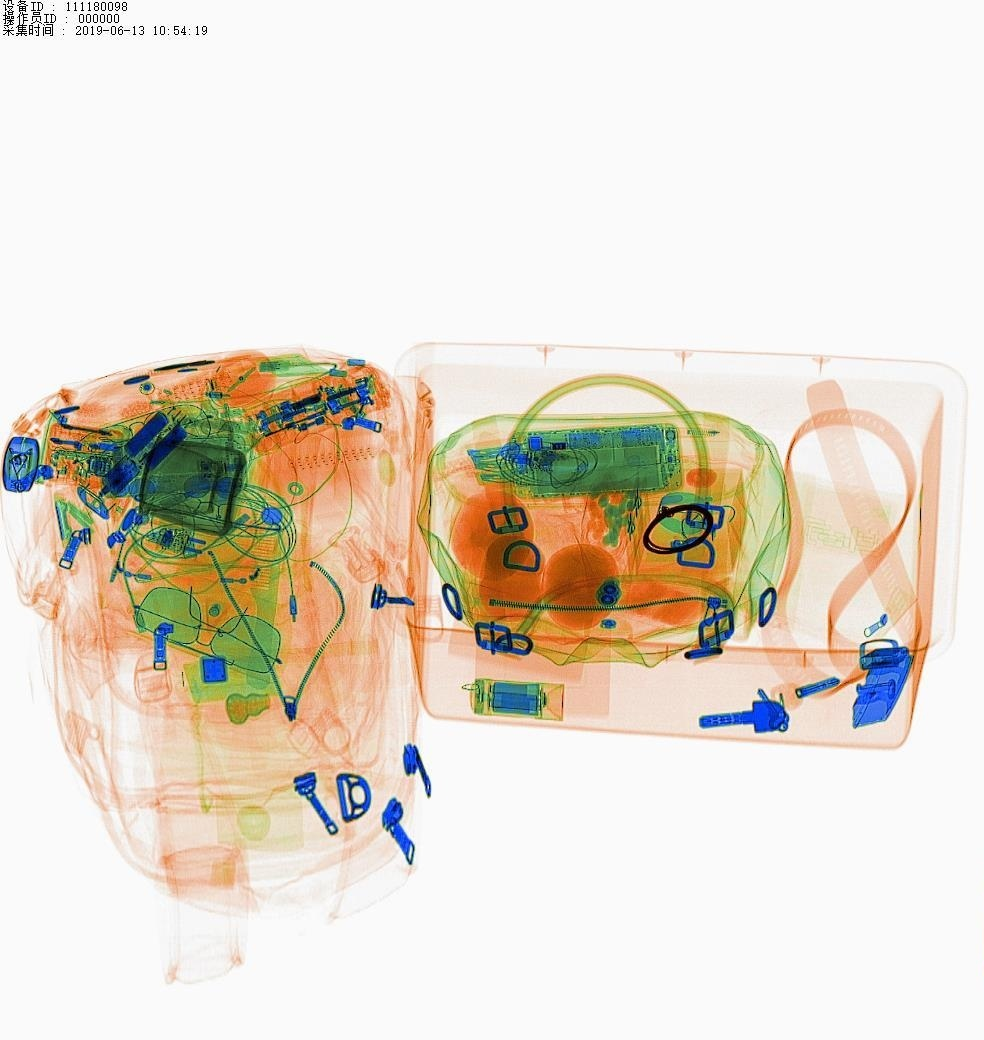NonmetallicFire: (97, 408, 194, 539)
